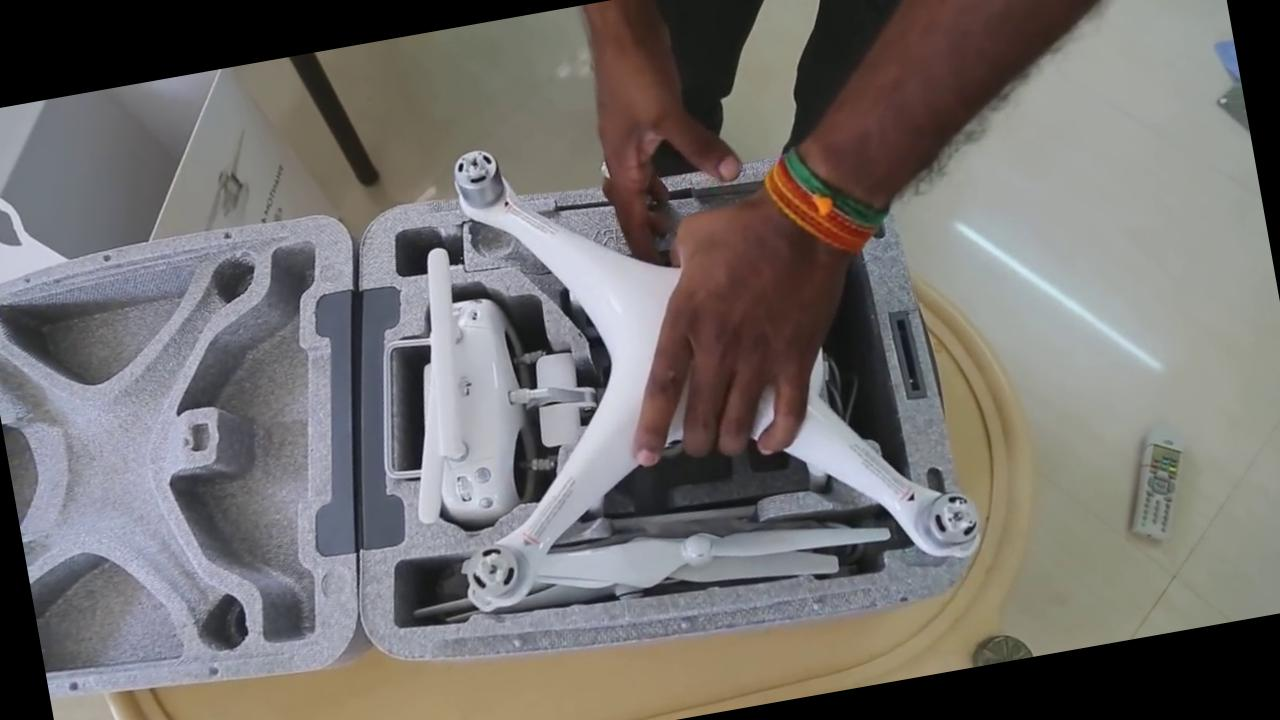drone: (378, 60, 1000, 642)
